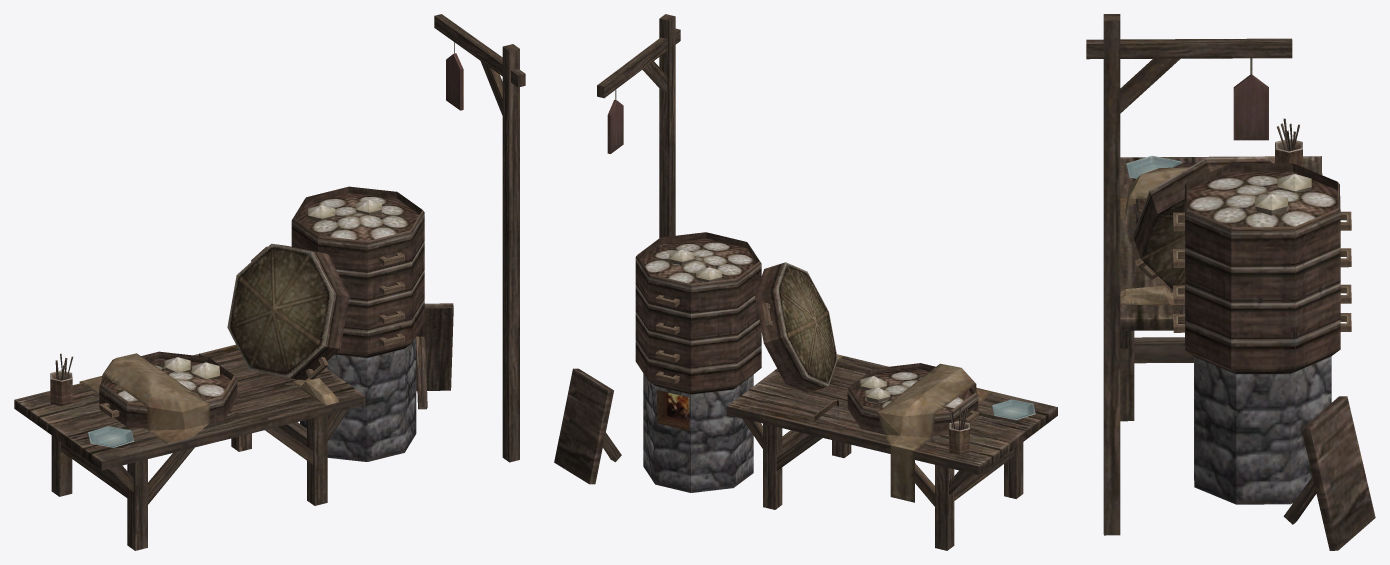
Rendered from 面点摊01.fbx.
The picture shows the model from 3 angles, left to right: view 1: azimuth 30°, elevation 25°; view 2: azimuth 150°, elevation 25°; view 3: azimuth 270°, elevation 25°; orthographic projection. The views are drawn at different scales.
Visible parts, largest first — view 1: qingmo_obj_007 [10484213]; view 2: qingmo_obj_007 [10484213]; view 3: qingmo_obj_007 [10484213].
Boxes of the visible parts, x1,y1,x2,y2 form: qingmo_obj_007 [10484213]: (14, 14, 525, 550); qingmo_obj_007 [10484213]: (554, 14, 1057, 550); qingmo_obj_007 [10484213]: (1086, 14, 1375, 550).
Bounding box in the file's own units: 26.81 × 12.12 × 23.91.
Materials: 1 (1 with a texture image).
